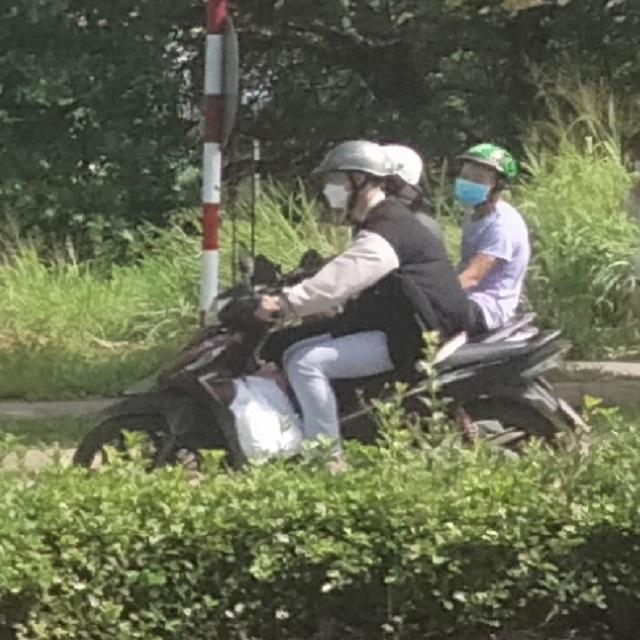Helmet: (315, 134, 391, 222), (455, 139, 517, 213), (373, 137, 431, 211)
